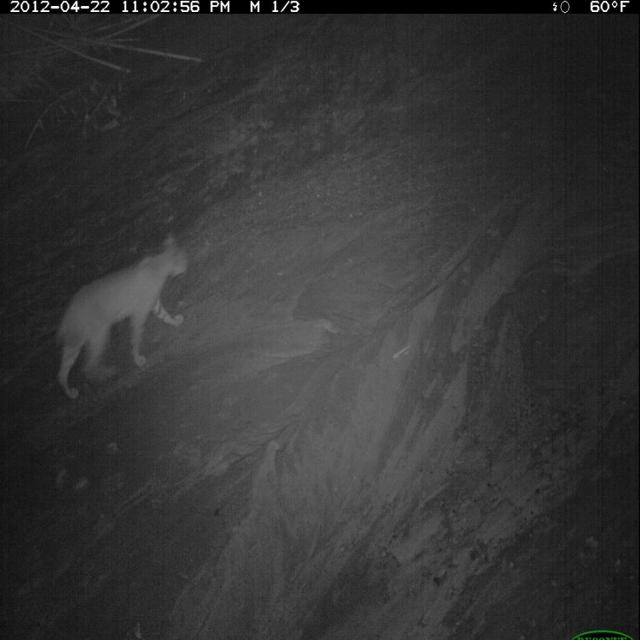bobcat: (53, 231, 194, 402)
